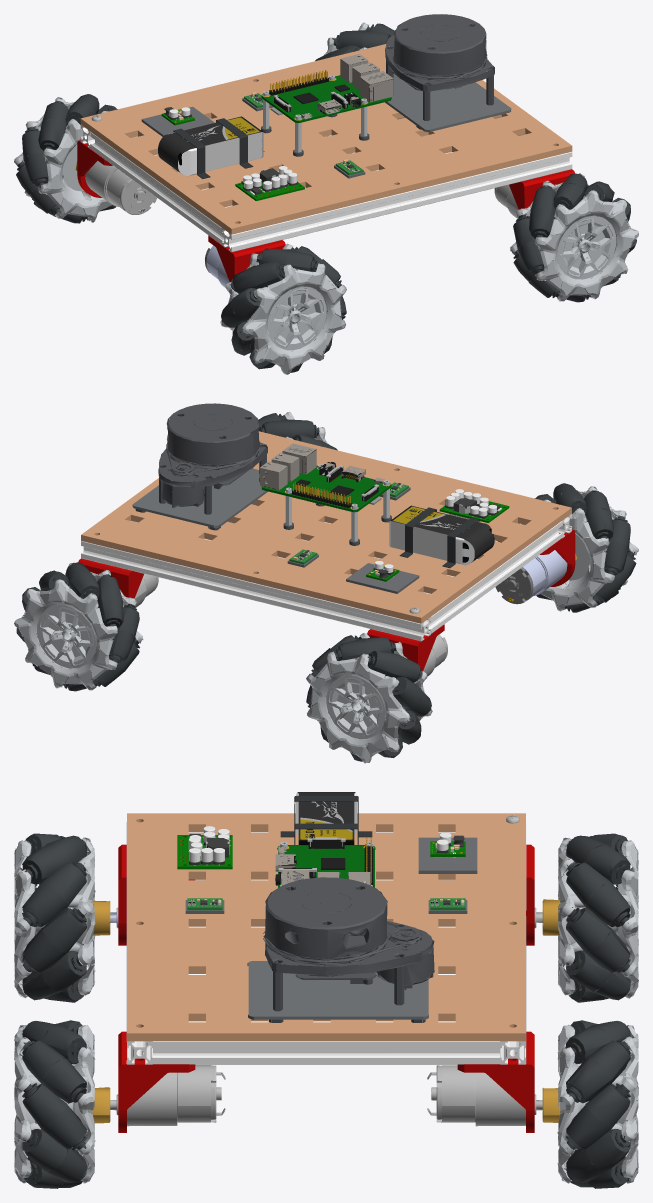
The model's file is tslot_mecanum.glb.
3 views of the same model, one above another, from view 1: azimuth 30°, elevation 25°; view 2: azimuth 150°, elevation 25°; view 3: azimuth 270°, elevation 25° (orthographic). The views are drawn at different scales.
Visible parts, largest first — view 1: base_link, wheel_rb, wheel_rf, top_lidar, wheel_lb, compute, battery, regulator, wheel_lf; view 2: base_link, wheel_lb, wheel_lf, top_lidar, wheel_rb, compute, battery, wheel_rf, regulator; view 3: base_link, top_lidar, wheel_lb, wheel_rb, wheel_rf, wheel_lf, compute, battery, regulator, drive_regulator.
Boxes of the visible parts, box(x1,y1,x2,y2) form: base_link: box(77, 44, 575, 287); wheel_rb: box(220, 243, 346, 374); wheel_rf: box(510, 173, 638, 302); top_lidar: box(385, 14, 511, 132); wheel_lb: box(14, 94, 117, 223); compute: box(261, 54, 393, 122); battery: box(158, 116, 263, 176); regulator: box(235, 166, 304, 200); wheel_lf: box(315, 22, 394, 60); base_link: box(78, 431, 575, 676); wheel_lb: box(306, 633, 432, 763); wheel_lf: box(14, 562, 143, 691); top_lidar: box(132, 403, 267, 530); wheel_rb: box(535, 483, 638, 612); compute: box(259, 443, 391, 512); battery: box(389, 505, 494, 565); wheel_rf: box(258, 412, 337, 450); regulator: box(439, 489, 509, 522); base_link: box(116, 796, 536, 1132); top_lidar: box(247, 877, 434, 1022); wheel_lb: box(536, 833, 638, 1002); wheel_rb: box(14, 833, 116, 1002); wheel_rf: box(14, 1020, 116, 1188); wheel_lf: box(536, 1020, 638, 1188); compute: box(275, 837, 375, 887); battery: box(296, 792, 356, 854); regulator: box(177, 826, 232, 869); drive_regulator: box(430, 832, 465, 857).
Bounding box in the file's own units: 0.352 × 0.1649 × 0.3602.
